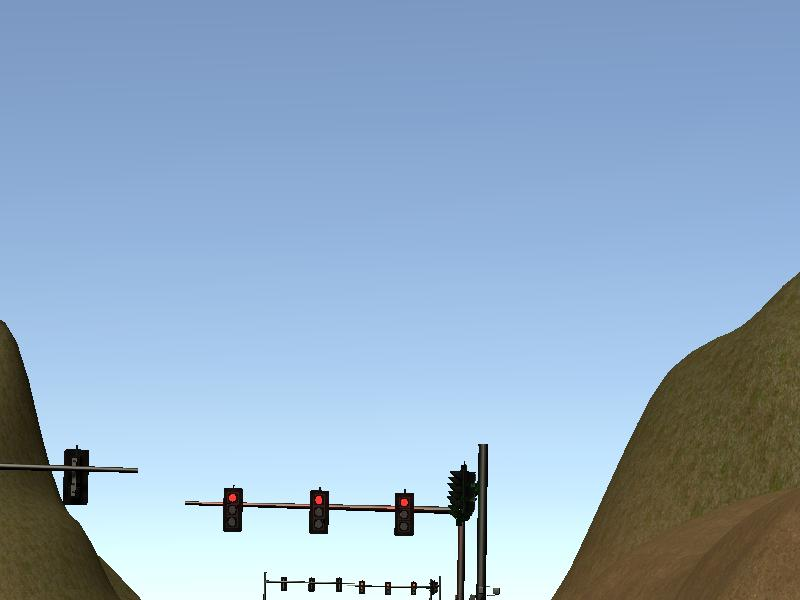Red: (223, 484, 243, 532), (309, 490, 327, 534), (396, 491, 414, 535)
